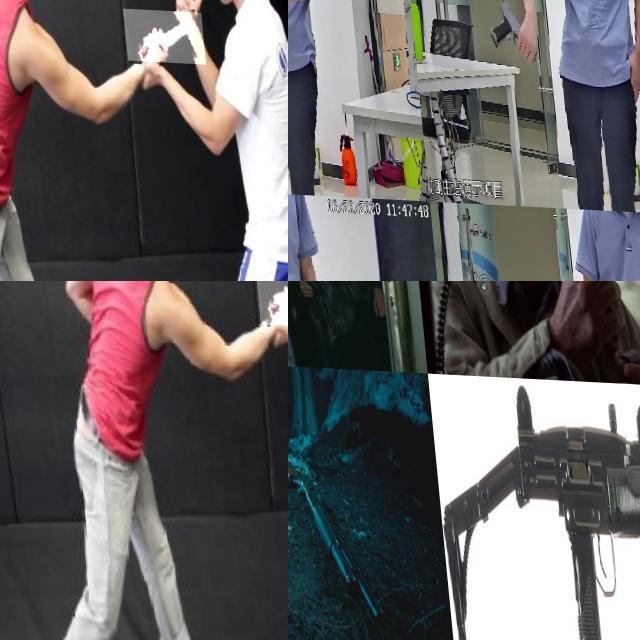-: (120, 5, 201, 60), (252, 281, 288, 323)
gun-knife-thesis - v11 Yolov5 augmented: (422, 373, 640, 640), (288, 445, 372, 628), (539, 281, 640, 379), (483, 0, 536, 61), (288, 0, 315, 33), (288, 281, 313, 305)
